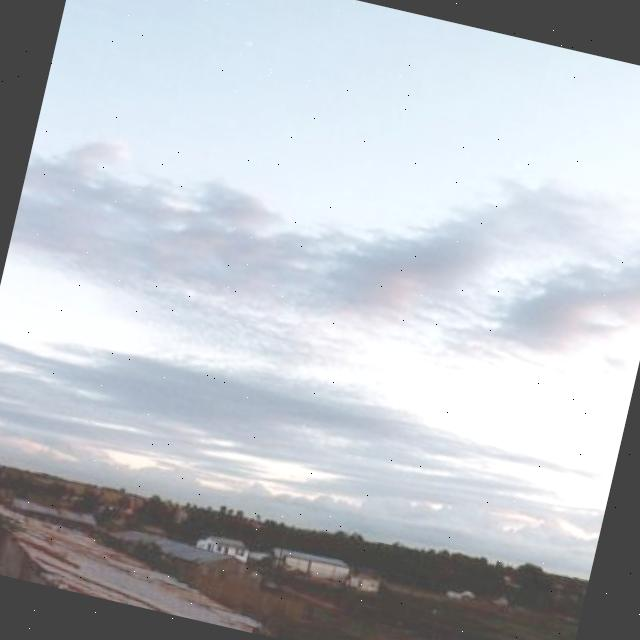Sc: (1, 56, 640, 458)
